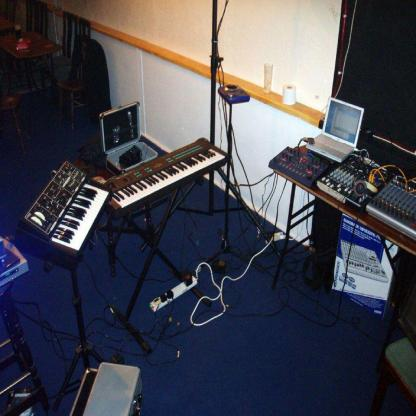board: (306, 97, 364, 163)
